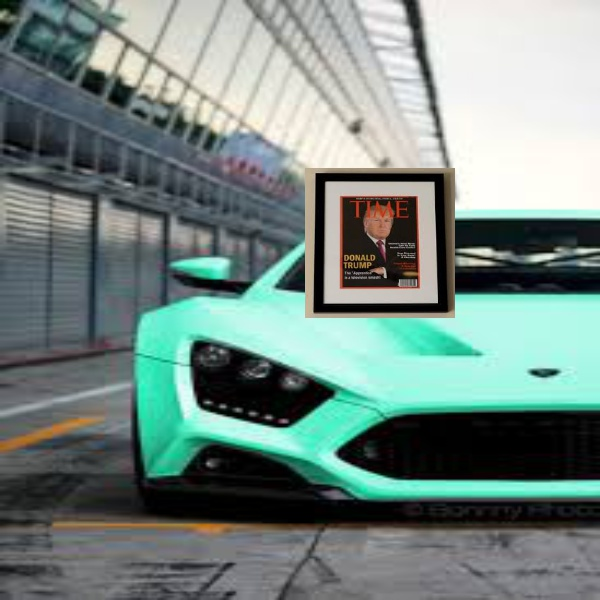time_cover: (301, 160, 461, 324)
